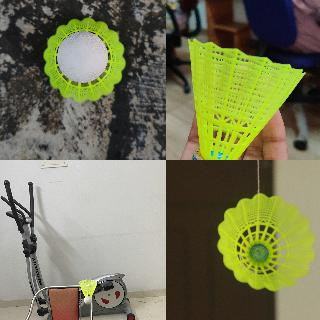shuttlecock: (188, 38, 306, 159), (218, 193, 314, 291), (44, 19, 126, 103), (79, 278, 97, 304)
